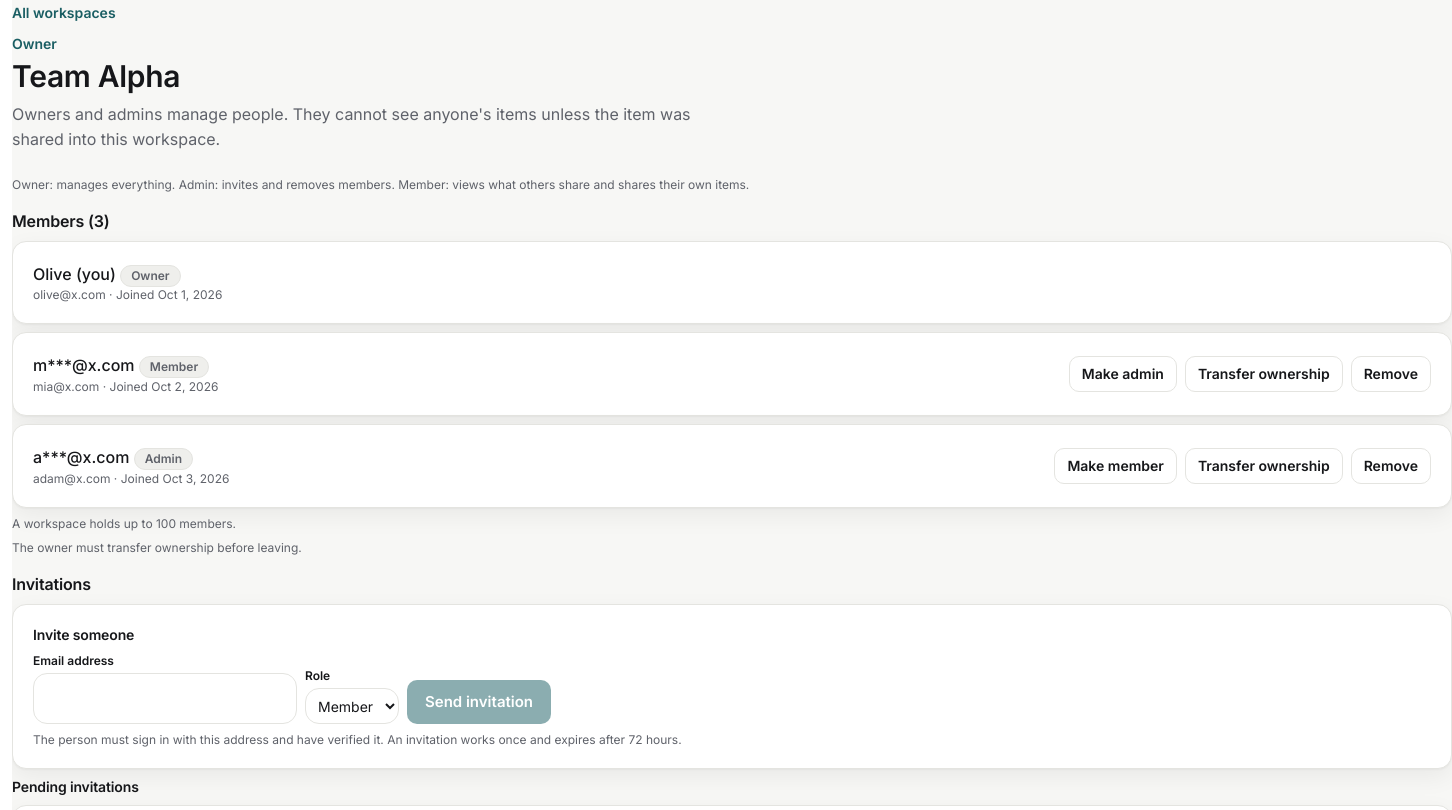
Workspace detail as the owner › maps a server refusal to a calm, specific message (409 state, 403 role)
This screenshot has width=1452, height=810.
Type "mia@x.com" into the field labelled "Email address" at (165, 698), box 33,673 -> 297,724
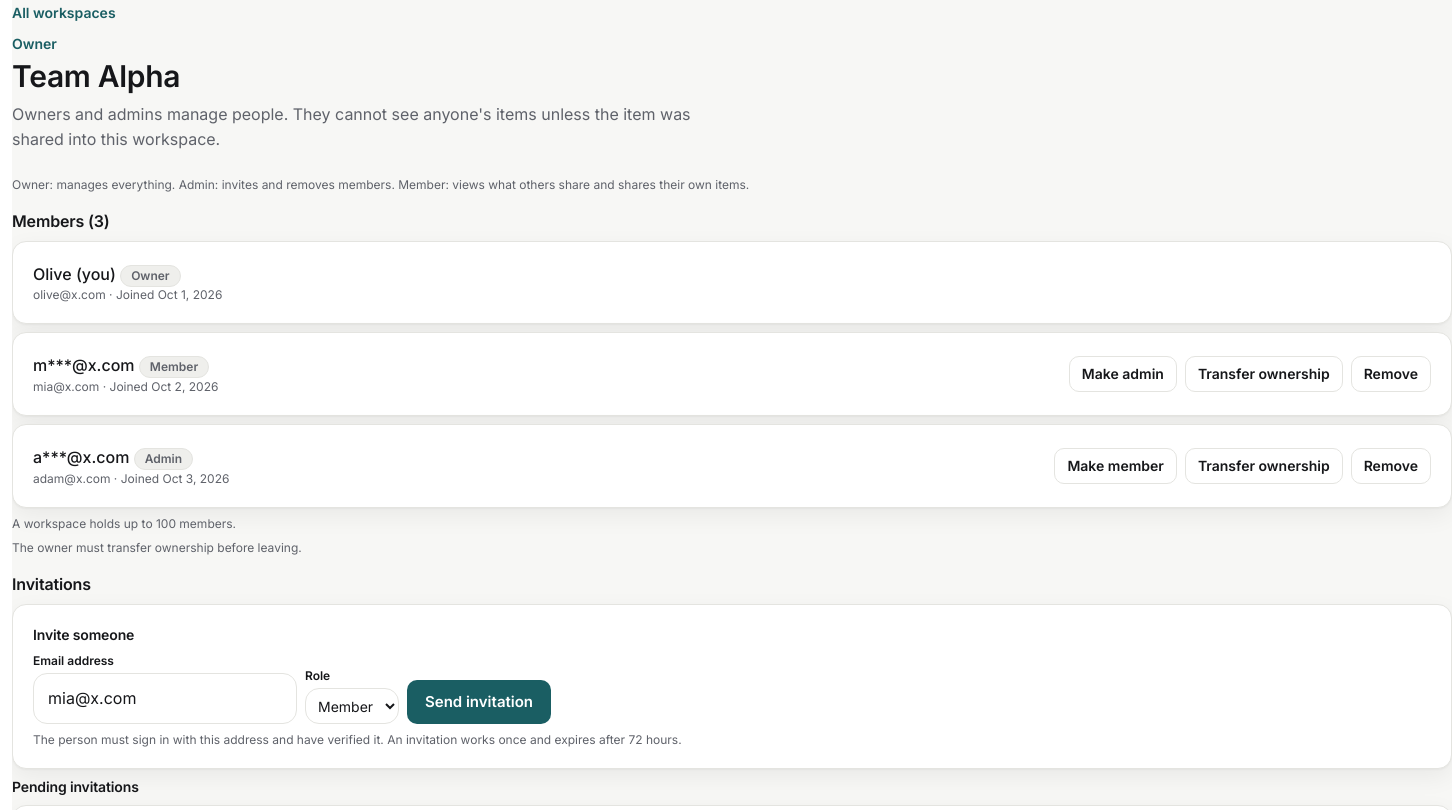
Click the button "Send invitation" at (479, 702), box 407,680 -> 551,724
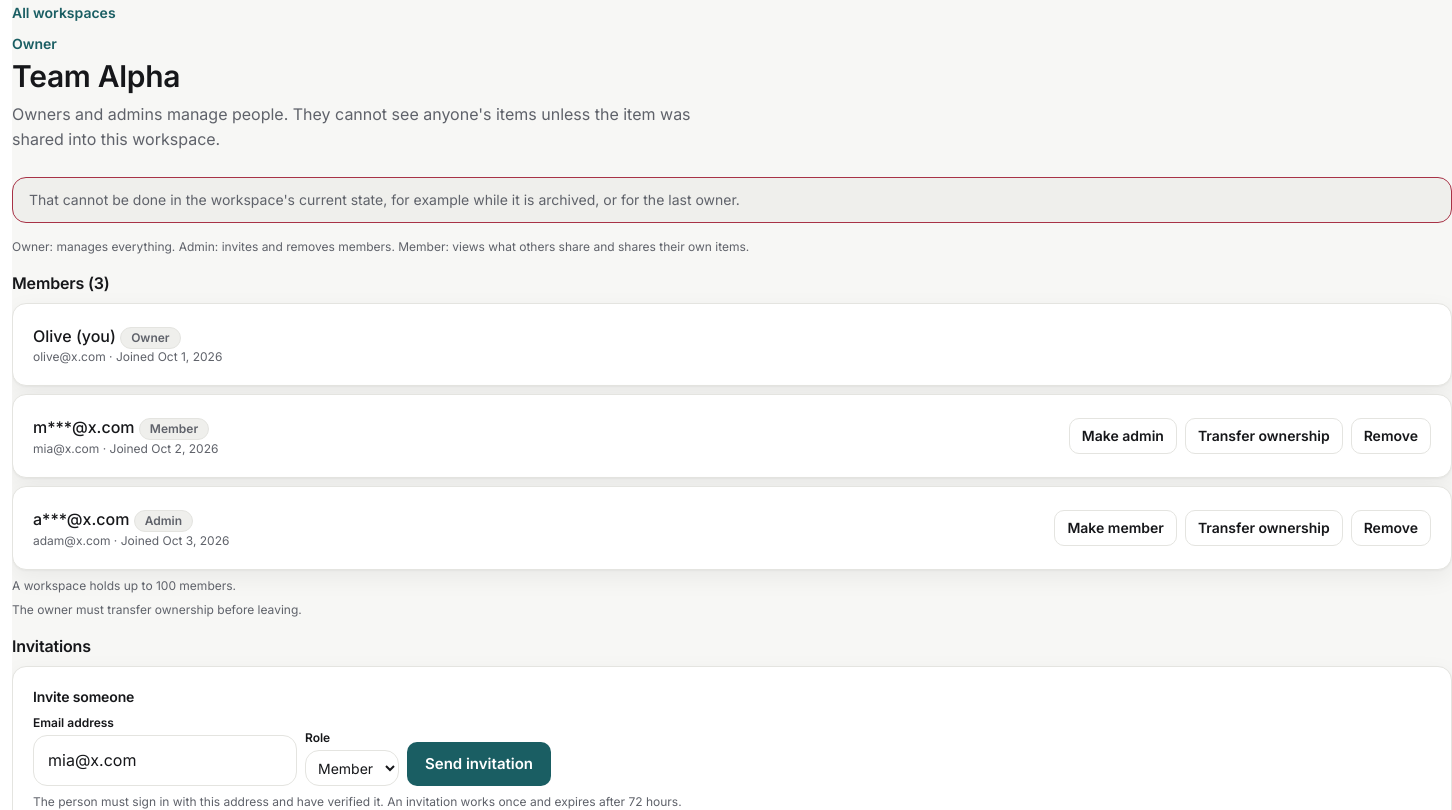
Expected: the message shows "That cannot be done in the workspace's current state, for example while it is archived, or for the last owner.", 29,191 -> 740,208
